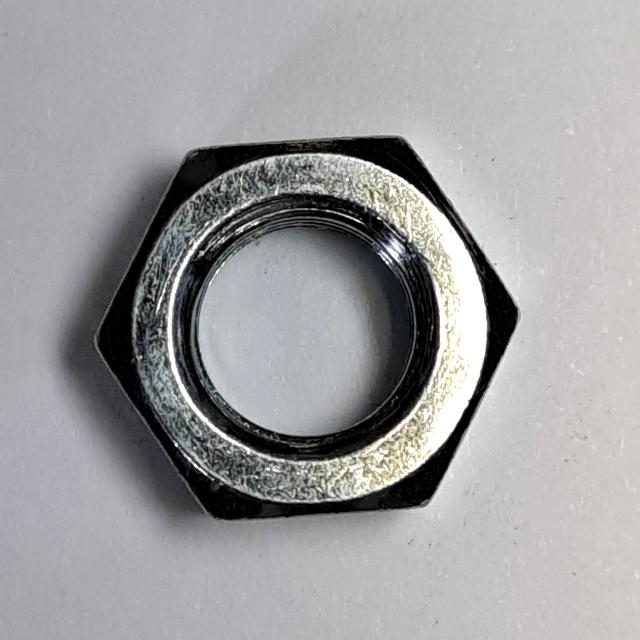Excellent: (79, 124, 539, 538)
